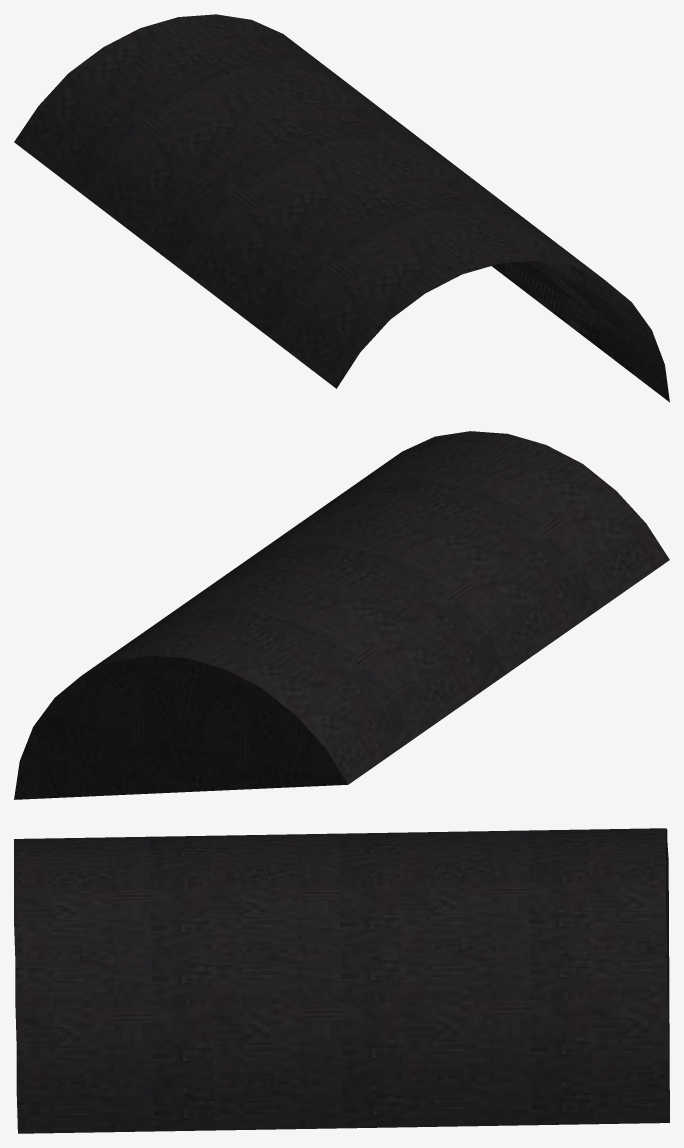
File: original-241.obj
3 views of the same model, one above another, from view 1: azimuth 30°, elevation 25°; view 2: azimuth 150°, elevation 25°; view 3: azimuth 270°, elevation 25° (orthographic).
Parts seen in each view (by area): view 1: Group9/mesh100/mesh100-geometry/material_1/component_49#mesh100-; view 2: Group9/mesh100/mesh100-geometry/material_1/component_49#mesh100-; view 3: Group9/mesh100/mesh100-geometry/material_1/component_49#mesh100-.
Part boxes in pixels (box(x1,y1,x2,y2)): Group9/mesh100/mesh100-geometry/material_1/component_49#mesh100-: box(14, 14, 669, 402); Group9/mesh100/mesh100-geometry/material_1/component_49#mesh100-: box(14, 431, 669, 799); Group9/mesh100/mesh100-geometry/material_1/component_49#mesh100-: box(14, 828, 669, 1133).
Bounding box in the file's own units: 0.0196 × 0.0108 × 0.0329.
2 materials, 2 textured.
